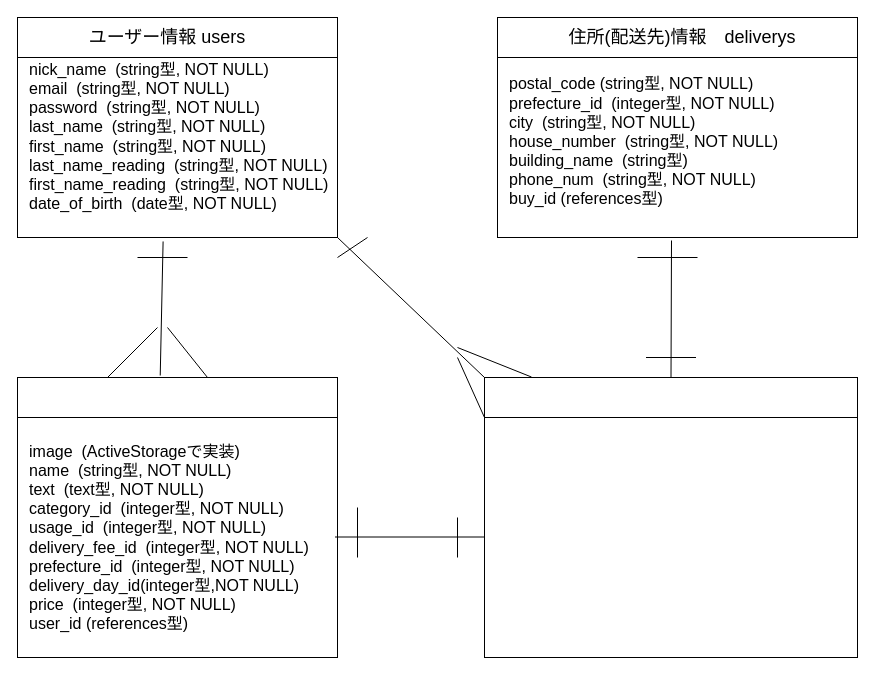
Image size: 875x675. Some labels were removed from this diagram. Each missing label, with the box of its shape:
user_id (references型) item_id (references型) image (ActiveStorageで実装): (484, 416, 858, 658)
商品出品情報 items: (16, 376, 338, 418)
商品購入管理情報 buys: (484, 376, 858, 418)
